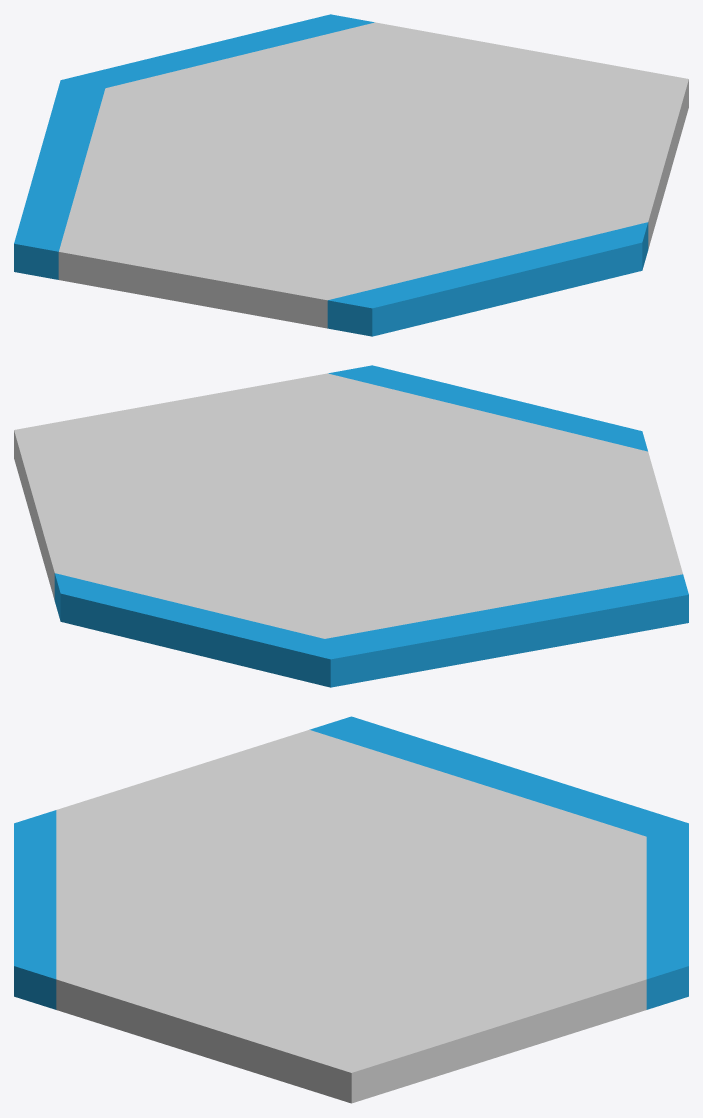
The picture shows the model from 3 angles, top to bottom: view 1: azimuth 30°, elevation 25°; view 2: azimuth 150°, elevation 25°; view 3: azimuth 270°, elevation 25°; orthographic projection. The views are drawn at different scales.
Visible parts, largest first — view 1: Hexagon.001, S, NW.001, N.001; view 2: Hexagon.001, NW.001, N.001, S; view 3: Hexagon.001, NW.001, S, N.001.
Boxes of the visible parts, left/top/right/bottom form: Hexagon.001: left=58, top=22, right=688, bottom=328; S: left=327, top=222, right=648, bottom=336; NW.001: left=14, top=80, right=105, bottom=279; N.001: left=61, top=14, right=374, bottom=88; Hexagon.001: left=14, top=373, right=682, bottom=638; NW.001: left=325, top=574, right=688, bottom=687; N.001: left=54, top=573, right=330, bottom=687; S: left=328, top=365, right=647, bottom=451; Hexagon.001: left=56, top=730, right=646, bottom=1103; NW.001: left=309, top=716, right=688, bottom=836; S: left=14, top=810, right=56, bottom=1009; N.001: left=646, top=823, right=688, bottom=1009.
Size of the model in its own units: 5 by 4 by 0.2.
